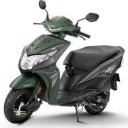bike: (5, 7, 125, 124)
